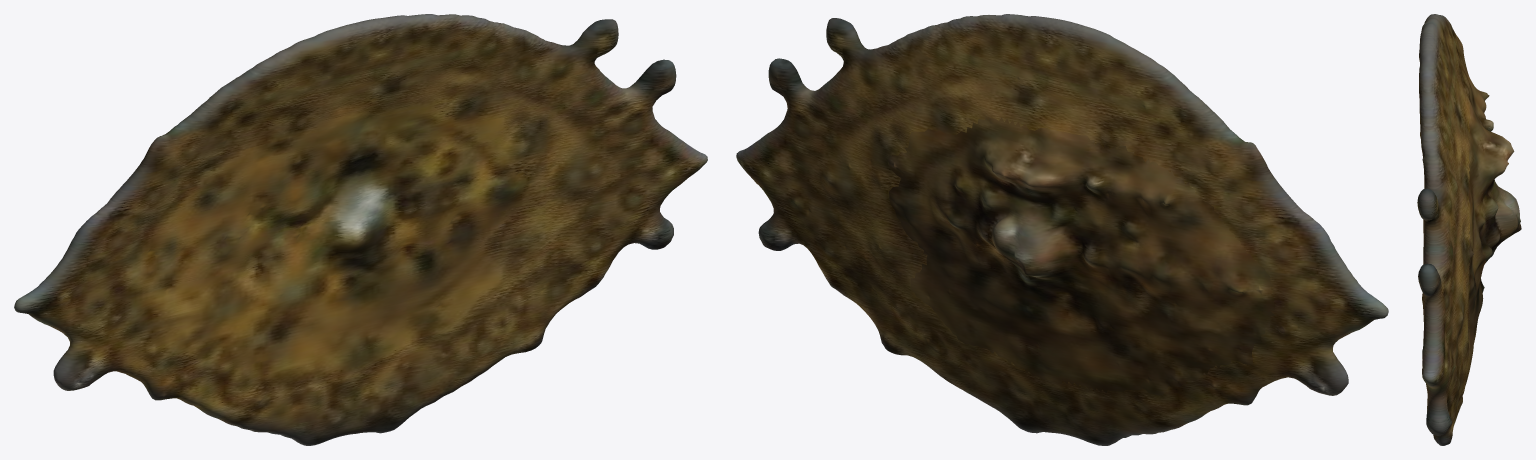
Rendered from kfl-2284.glb.
3 views of the same model, side by side, from view 1: azimuth 30°, elevation 25°; view 2: azimuth 150°, elevation 25°; view 3: azimuth 270°, elevation 25° (orthographic). The views are drawn at different scales.
Visible parts, largest first — view 1: geometry_0; view 2: geometry_0; view 3: geometry_0.
Part boxes in pixels (box(x1,y1,x2,y2)): geometry_0: box(14, 14, 707, 445); geometry_0: box(736, 14, 1388, 445); geometry_0: box(1417, 14, 1521, 445).
Size of the model in its own units: 0.9842 by 0.584 by 0.1476.
1 material, 1 textured.
